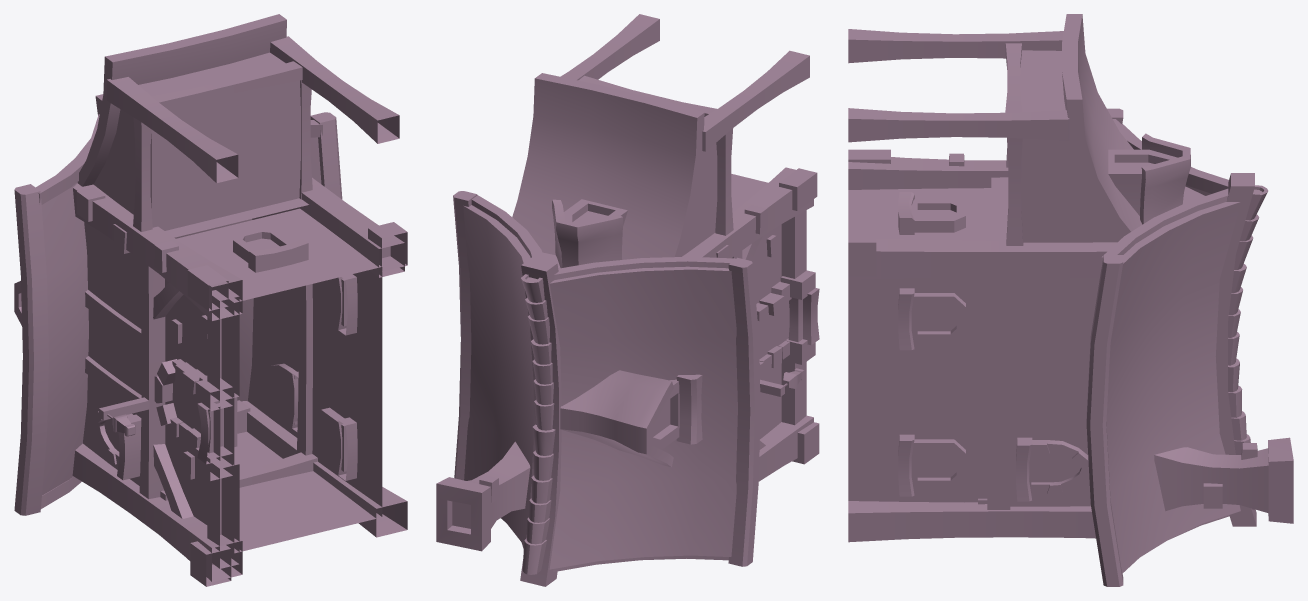
Rendered from house-trick.fbx.
3 views of the same model, side by side, from view 1: azimuth 30°, elevation 25°; view 2: azimuth 150°, elevation 25°; view 3: azimuth 270°, elevation 25° (orthographic). The views are drawn at different scales.
Visible parts, largest first — view 1: House_LP; view 2: House_LP; view 3: House_LP.
Part boxes in pixels (x1,y1,x2,y2): House_LP: (14, 14, 407, 586); House_LP: (436, 14, 819, 586); House_LP: (848, 14, 1293, 586).
Bounding box in the file's own units: 79.14 × 110 × 96.13.
